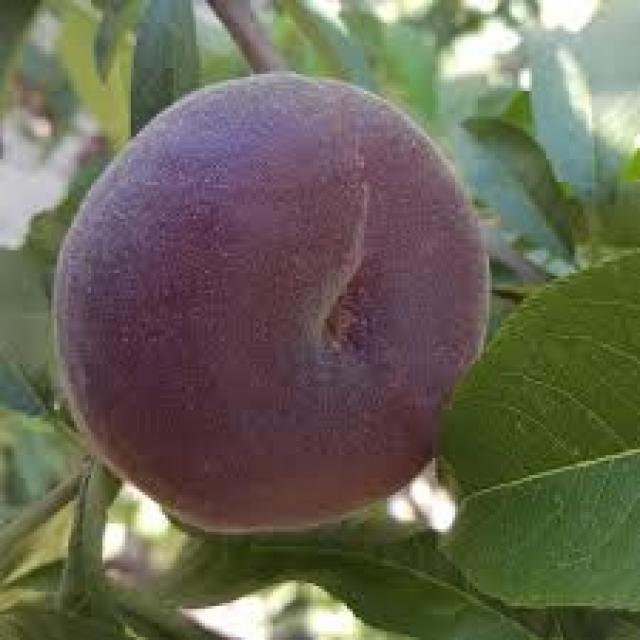organic waste: (46, 62, 483, 532), (435, 256, 637, 606), (131, 512, 637, 637)
